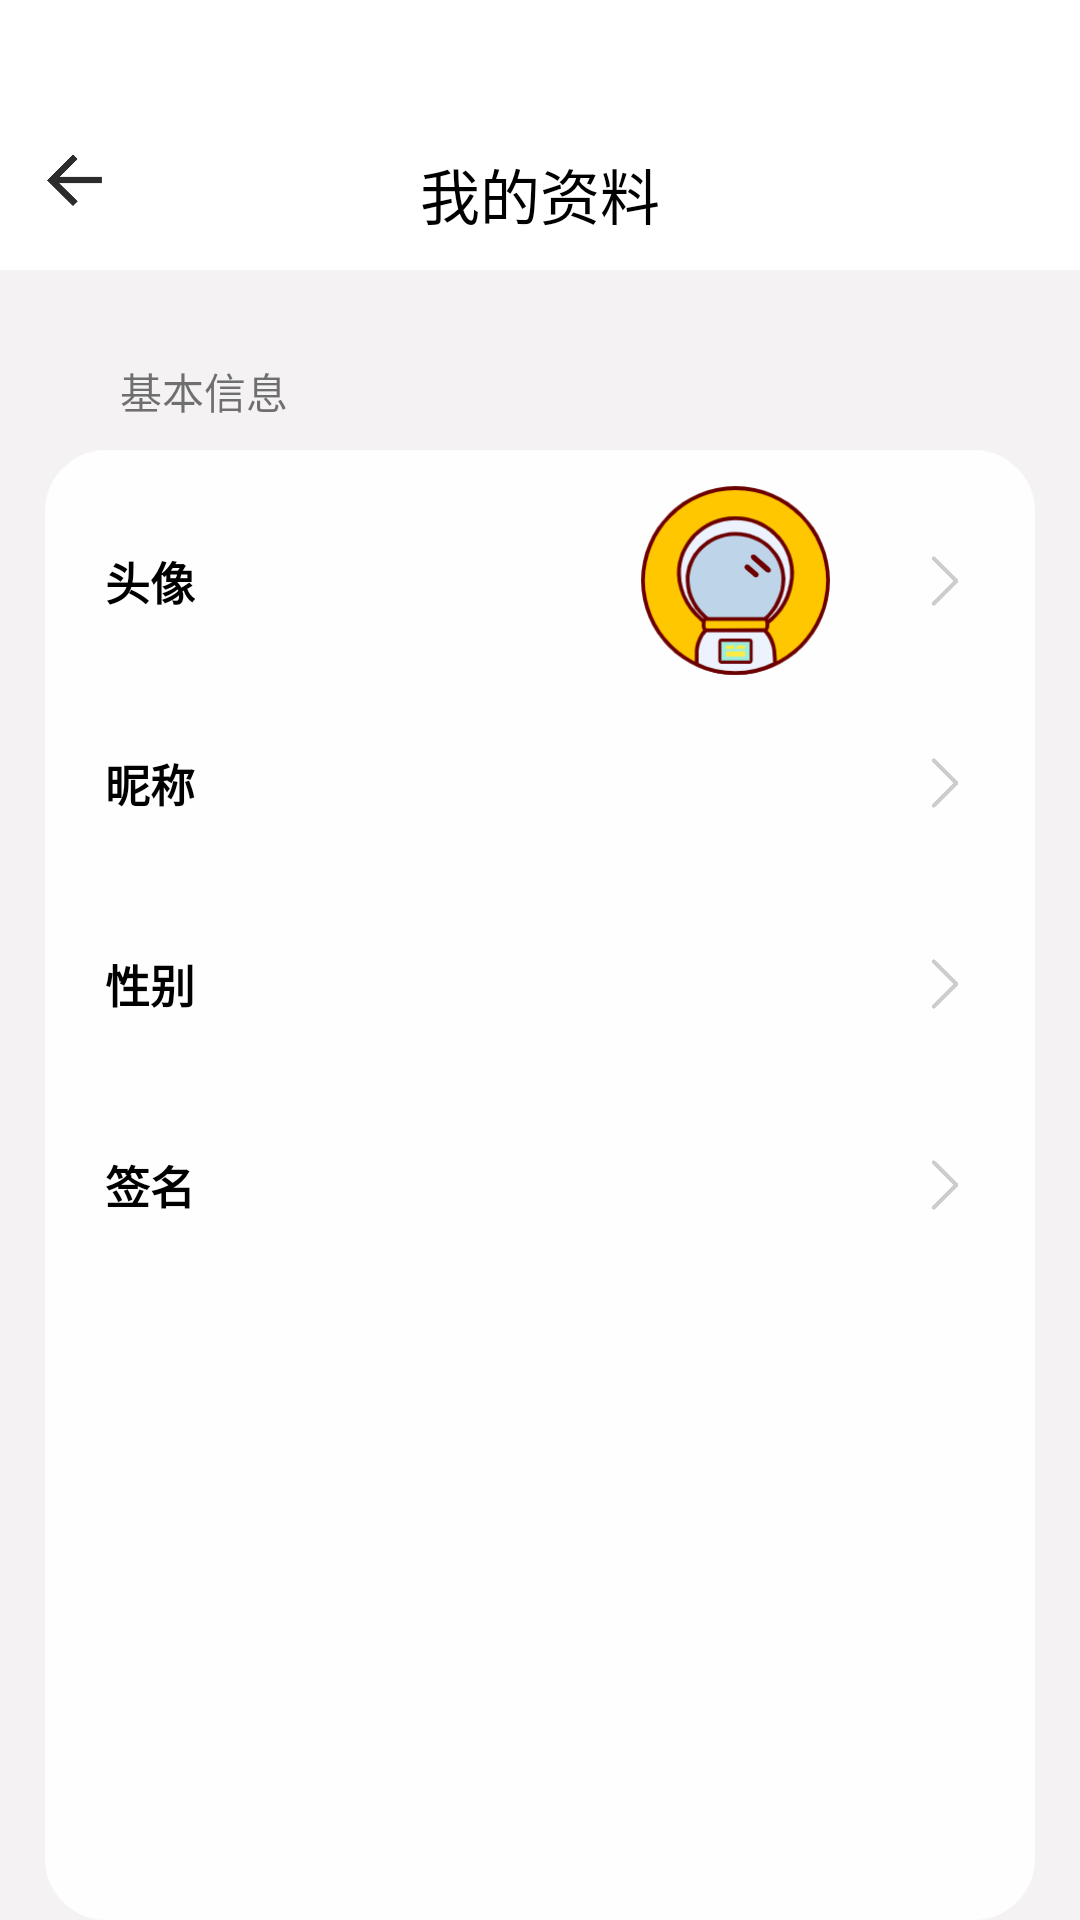

Icon bounding boxes for this 1080 × 1920 phone screenshot, format rect(x1, y1, x2, y2):
backblack: rect(47, 155, 102, 206)
defalut head: rect(641, 486, 830, 675)
next: rect(932, 556, 958, 606), rect(932, 758, 958, 808), rect(932, 959, 958, 1009), rect(932, 1160, 958, 1210)
